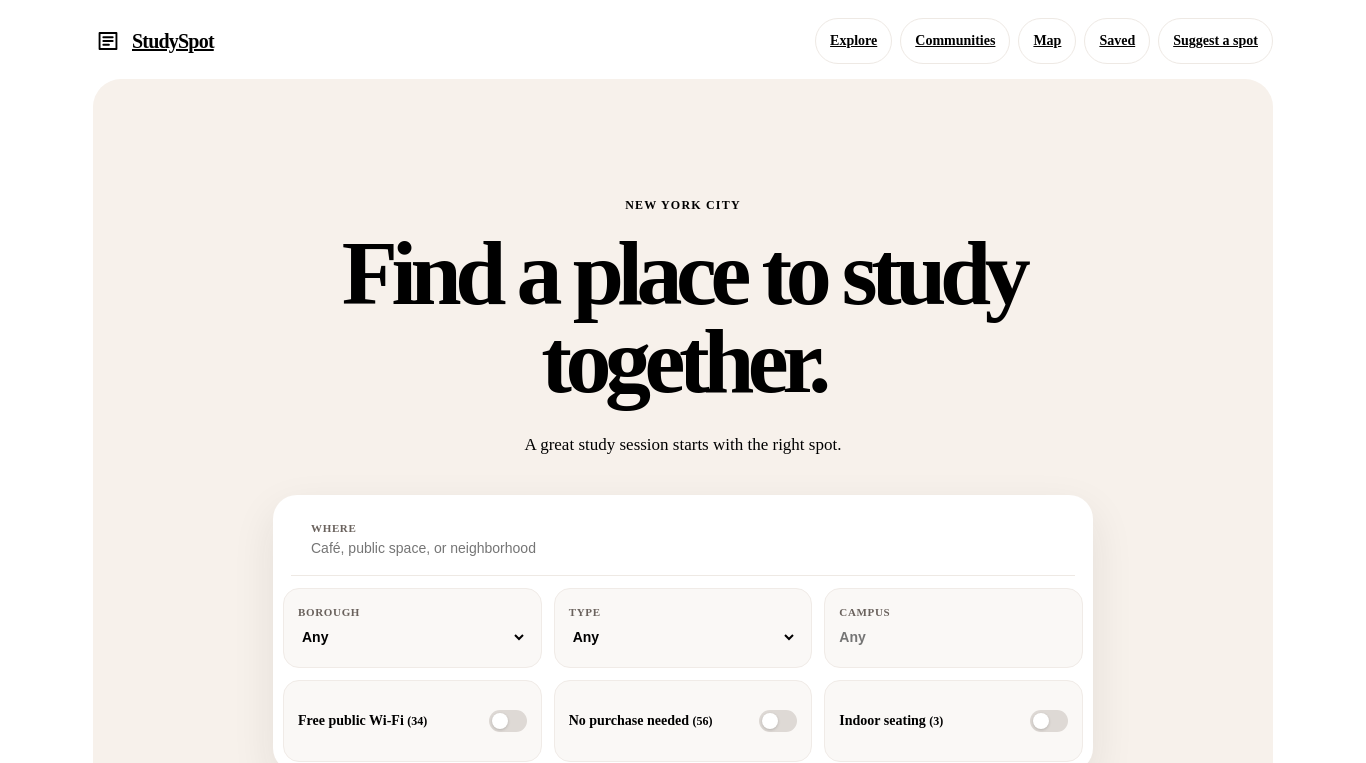
Test: paging › continues the request the visible results came from
Type "library" into the field labelled "Where" at (625,548), box [311, 539, 939, 558]
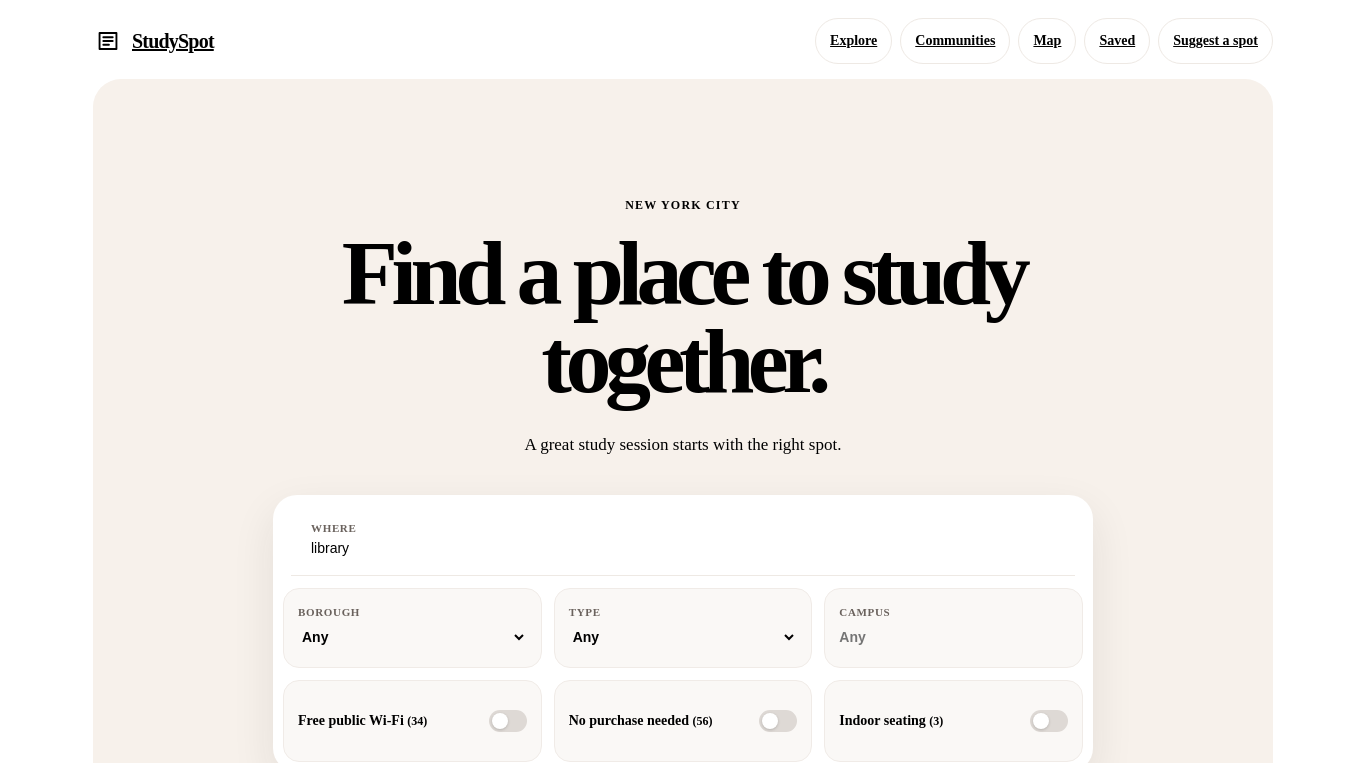
Click the button "Search" at (1025,540), box [959, 513, 1091, 567]
(page scrolled)
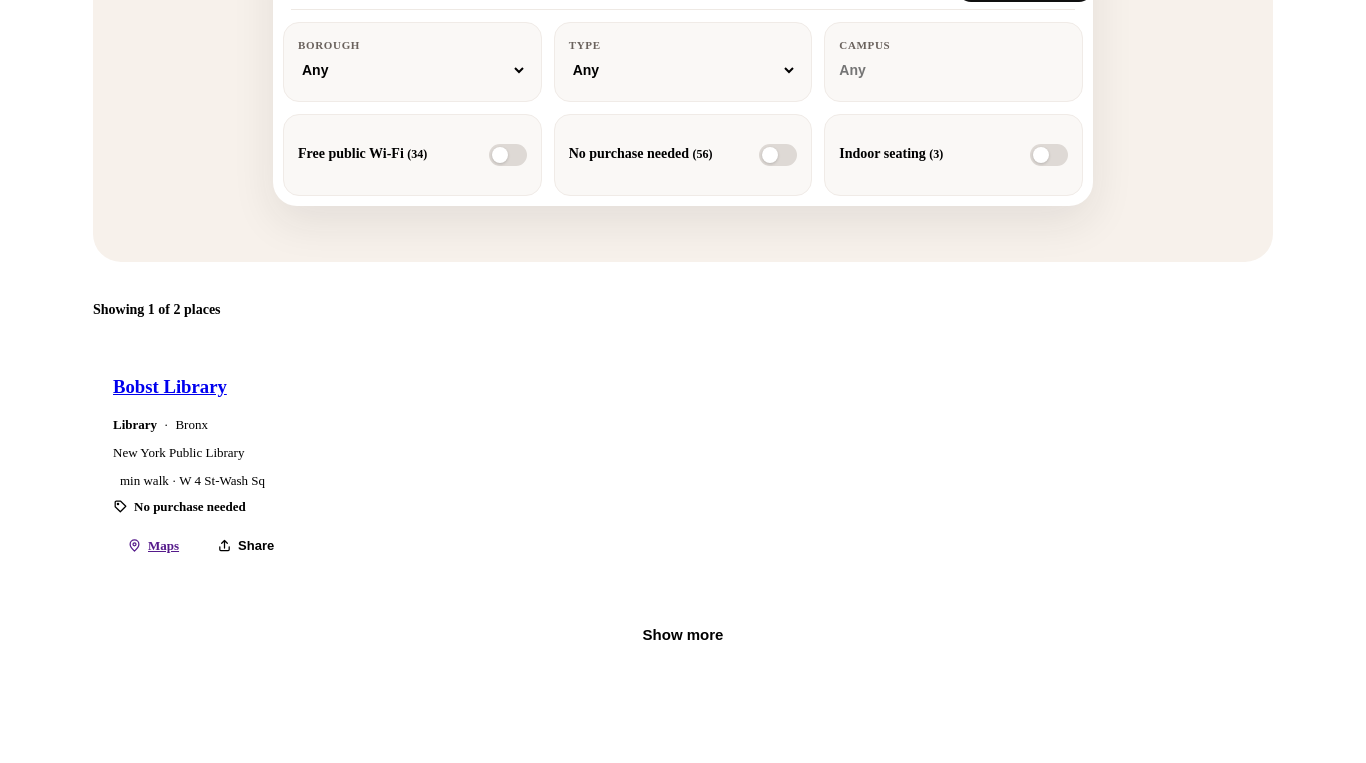
Now the link "Bobst Library" is shown, box [113, 376, 227, 397]
Click the button "Show more" at (683,635), box [615, 611, 752, 659]
(page scrolled)
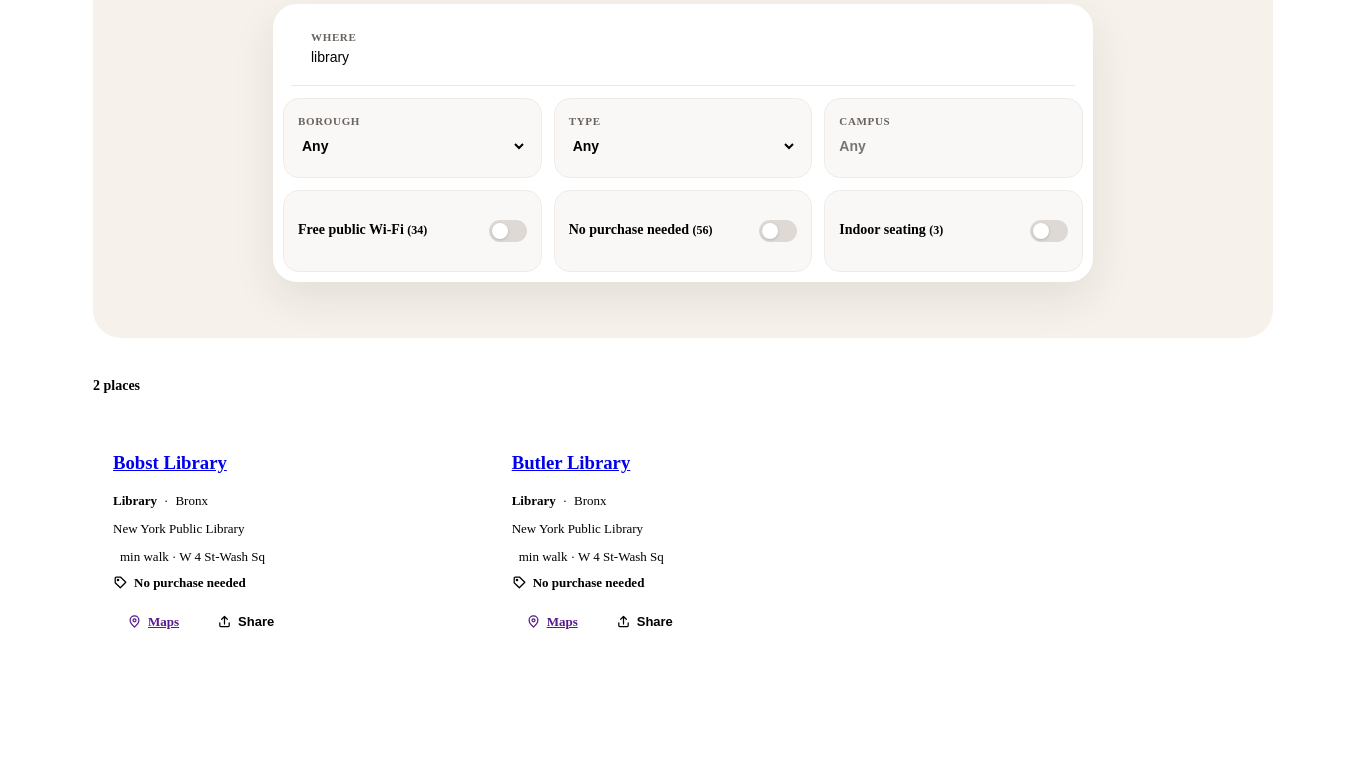
Now the link "Butler Library" is shown, box [512, 452, 630, 473]
